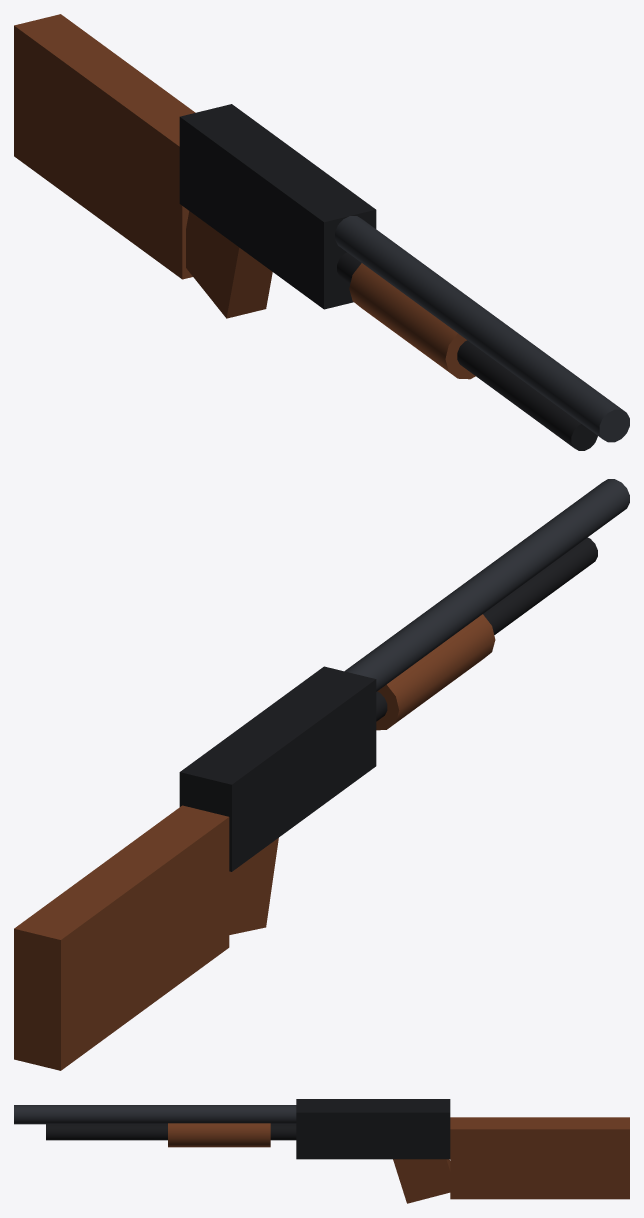
Rendered from shotgun.glb.
3 views of the same model, one above another, from view 1: azimuth 30°, elevation 25°; view 2: azimuth 150°, elevation 25°; view 3: azimuth 270°, elevation 25° (orthographic). The views are drawn at different scales.
Visible parts, largest first — view 1: Gun_Shotgun, pump; view 2: Gun_Shotgun, pump; view 3: Gun_Shotgun, pump.
Part boxes in pixels (x1,y1,x2,y2): Gun_Shotgun: (14,14,629,450); pump: (349,263,475,379); Gun_Shotgun: (14,479,629,1070); pump: (376,614,495,730); Gun_Shotgun: (14,1099,629,1203); pump: (168,1123,270,1147).
Bounding box in the file's own units: 0.05 × 0.1595 × 0.96.
